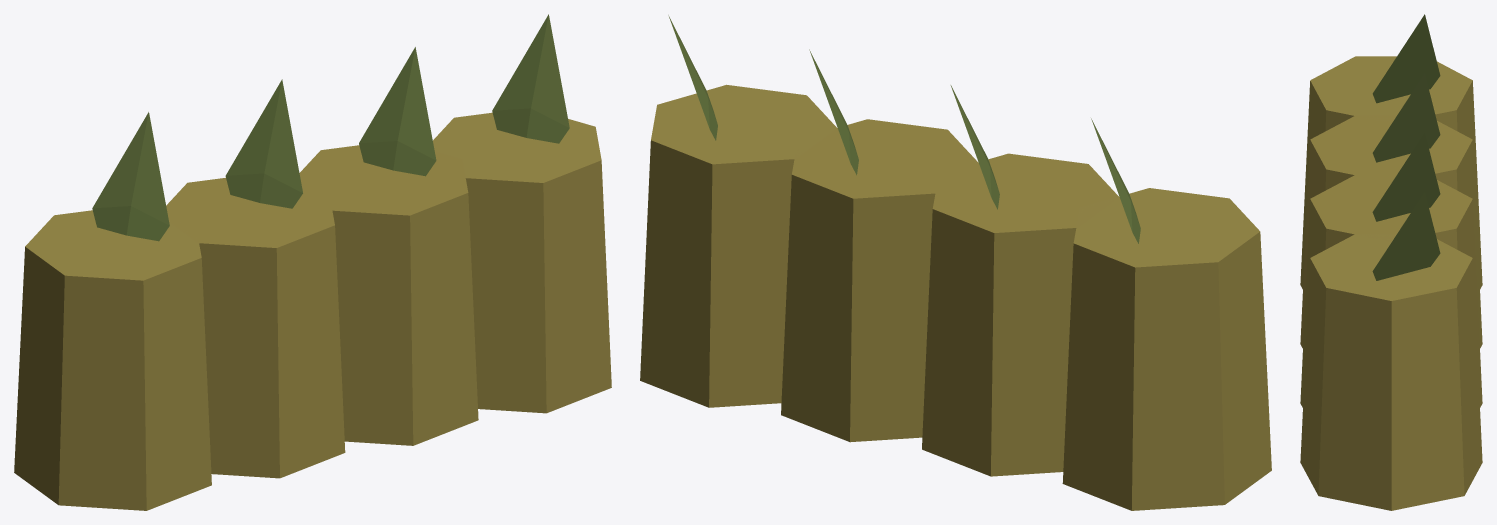
The model's file is map-boundaries-v5__farm_04.glb.
3 views of the same model, side by side, from view 1: azimuth 30°, elevation 25°; view 2: azimuth 150°, elevation 25°; view 3: azimuth 270°, elevation 25° (orthographic). The views are drawn at different scales.
Parts seen in each view (by area): view 1: farm_04; view 2: farm_04; view 3: farm_04.
Boxes of the visible parts, x1,y1,x2,y2 form: farm_04: [14, 14, 611, 510]; farm_04: [640, 15, 1271, 510]; farm_04: [1300, 14, 1482, 510].
Size of the model in its own units: 1.79 by 1 by 0.546.
